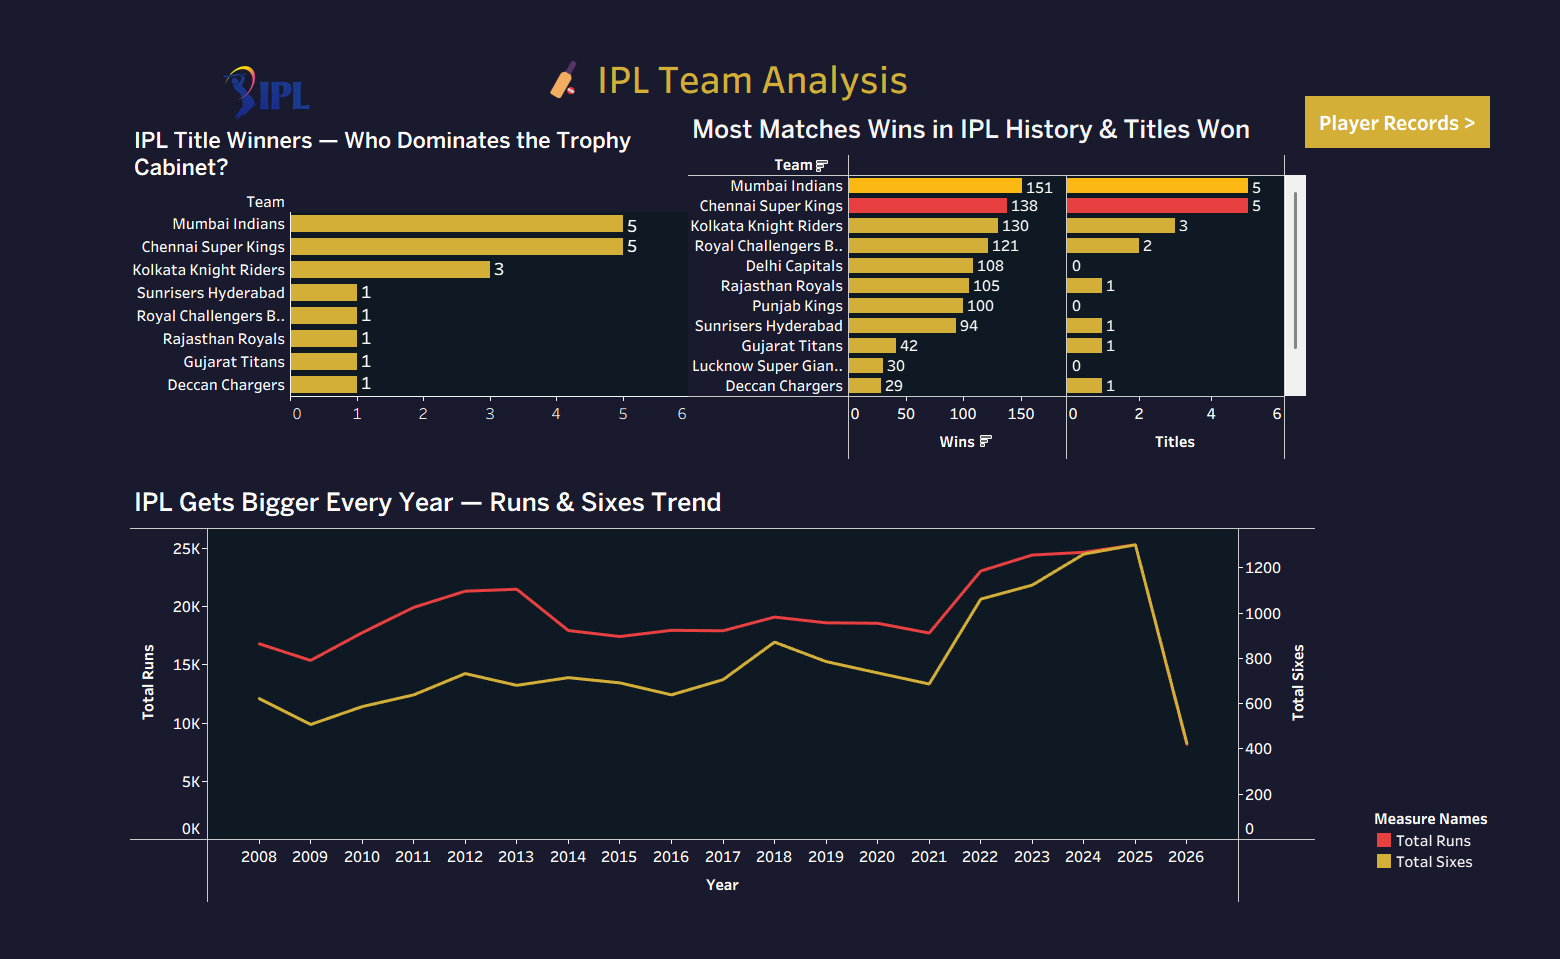

Layout of this report page (visuals, bound fields, positions):
{"tool":"tableau","page":{"name":"Team Analysis","canvas":[1400,900],"ordinal":2},"visuals":[{"type":"text","box":[0,0,1203.2,70]},{"type":"image","param":"Image/ipl-logo.png","box":[100.5,5,106.6,88]},{"type":"dashboard-object","box":[1184,53,185,52]},{"type":"worksheet","title":"Most matches Win In IPL ","mark":"Automatic","rows":["Team"],"cols":["Wins","Titles"],"box":[567,67,619,350]},{"type":"worksheet","title":"Title Winners","mark":"Bar","rows":["Team"],"cols":["Titles"],"box":[8.6,80,558.6,350]},{"type":"worksheet","title":"Season Trends","mark":"Automatic","rows":["Total Runs","Total Sixes"],"cols":["Year"],"box":[8.6,440,1186,420]},{"type":"legend","title":"Season Trends","param":"[federated.1pzpszl0ah1pcb168gbd70tnu8f0].[:Measure Names]","box":[1253,765,120.3,64]}]}

Visuals, with their boxes on the page's 1400x900 design canvas (x1, y1, x2, y2). These are canvas units, not pixel positions in the 1560x959 screenshot, which may show the page scaled, cropped or inside an application window:
text: [0, 0, 1203, 70]
image: [100, 5, 207, 93]
dashboard-object: [1184, 53, 1369, 105]
"Most matches Win In IPL " worksheet: [567, 67, 1186, 417]
"Title Winners" worksheet (Bar marks): [9, 80, 567, 430]
"Season Trends" worksheet: [9, 440, 1195, 860]
"Season Trends" legend: [1253, 765, 1373, 829]
